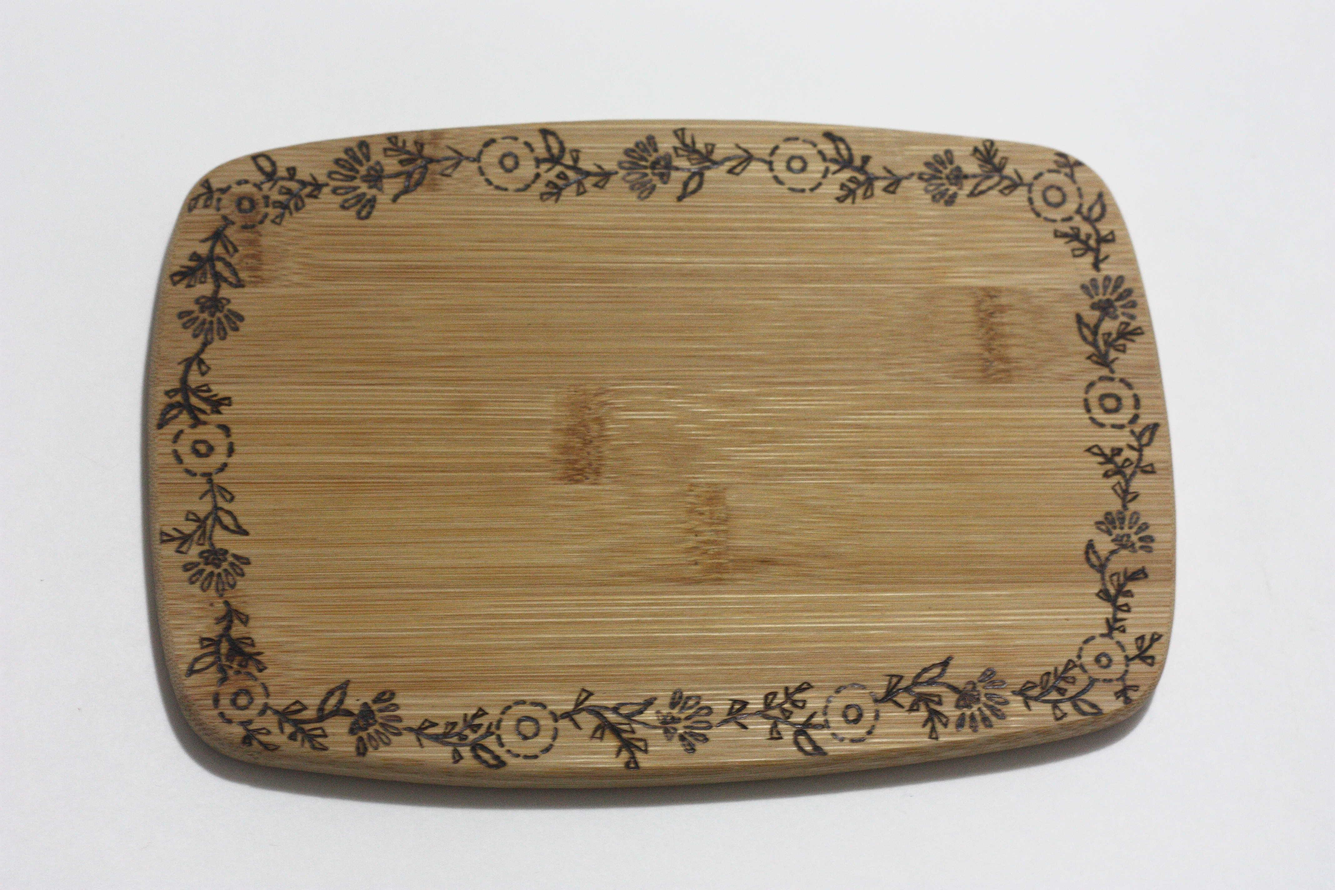gloved_hand: (129, 107, 1182, 806)
